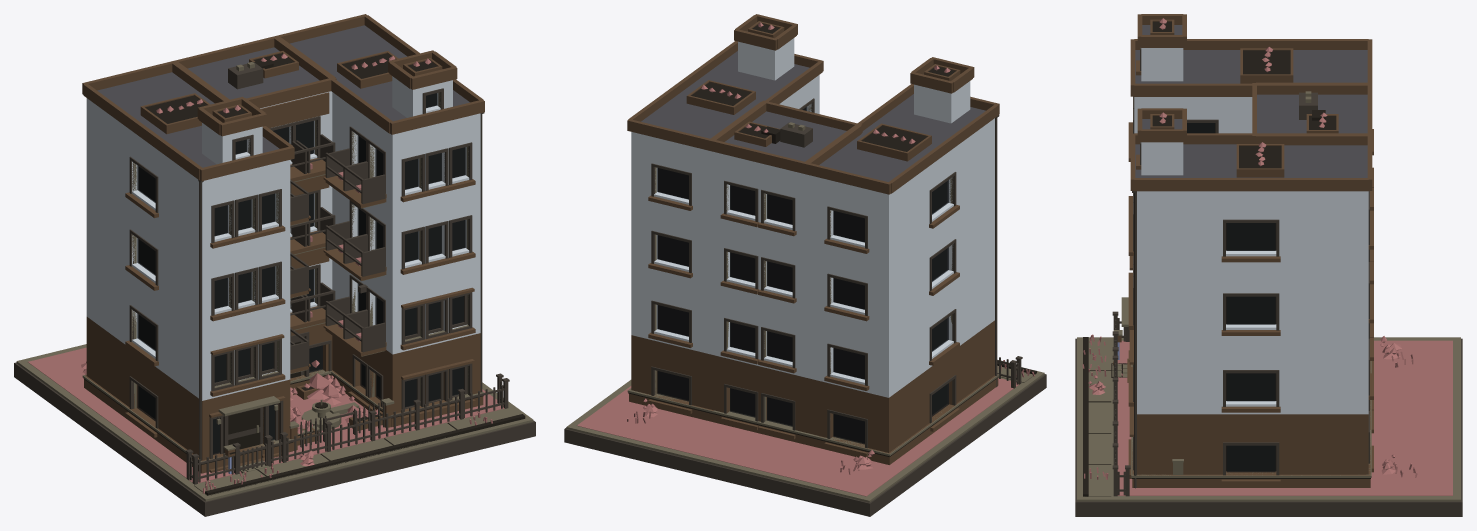
File: apartment-modern-courtyard.glb
3 renders of one model, left to right at view 1: azimuth 30°, elevation 25°; view 2: azimuth 150°, elevation 25°; view 3: azimuth 270°, elevation 25°, orthographic. The views are drawn at different scales.
Parts seen in each view (by area): view 1: body-3, body-0, body-4, body-2, body-1, body-7, body-5, body-6, dd-opening:lobby-door:1; view 2: body-3, body-0, body-4, body-2, body-6, body-5, body-7, body-1; view 3: body-3, body-0, body-6, body-7, body-4, body-1, body-2, body-5.
Boxes of the visible parts, box(x1,y1,x2,y2) form: body-3: box(86, 76, 480, 400); body-0: box(82, 14, 484, 473); body-4: box(14, 62, 535, 516); body-2: box(83, 53, 525, 495); body-1: box(16, 62, 533, 501); body-7: box(97, 25, 469, 167); body-5: box(137, 93, 465, 421); body-6: box(28, 53, 504, 493); dd-opening:lobby-door:1: box(228, 408, 260, 434); body-3: box(631, 38, 994, 397); body-0: box(627, 14, 999, 464); body-4: box(564, 98, 1046, 516); body-2: box(628, 24, 1036, 456); body-6: box(577, 22, 1034, 496); body-5: box(657, 107, 948, 444); body-7: box(641, 51, 985, 181); body-1: box(566, 103, 1044, 502); body-3: box(1134, 48, 1368, 414); body-0: box(1113, 14, 1373, 487); body-6: box(1082, 18, 1452, 495); body-7: box(1135, 25, 1367, 177); body-4: box(1075, 47, 1462, 516); body-1: box(1077, 91, 1460, 501); body-2: box(1083, 21, 1370, 496); body-5: box(1187, 123, 1275, 472).
Bounding box in the file's own units: 15 × 15.69 × 15.
